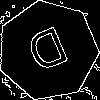D: (23, 25, 76, 82)
